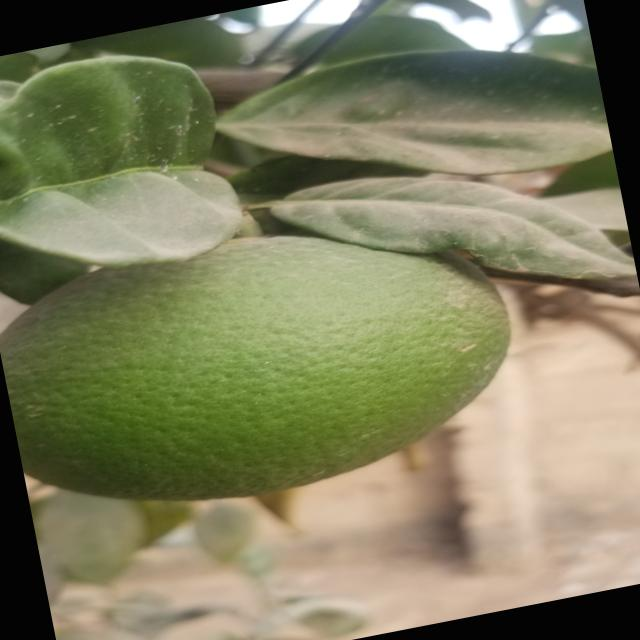Unripe: (0, 191, 533, 538)
